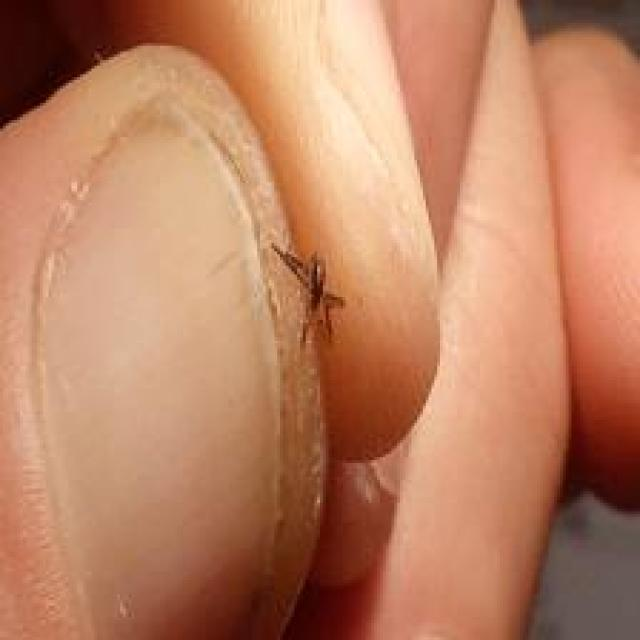Aedes albopictus: (268, 240, 346, 349)
